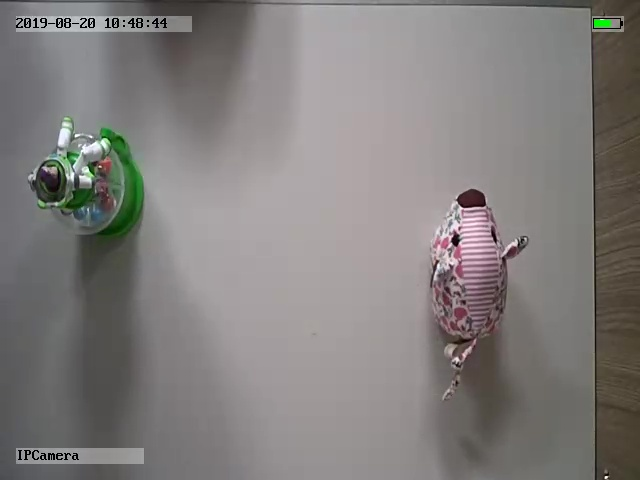buzz: (26, 116, 144, 238)
pig: (426, 188, 531, 406)
